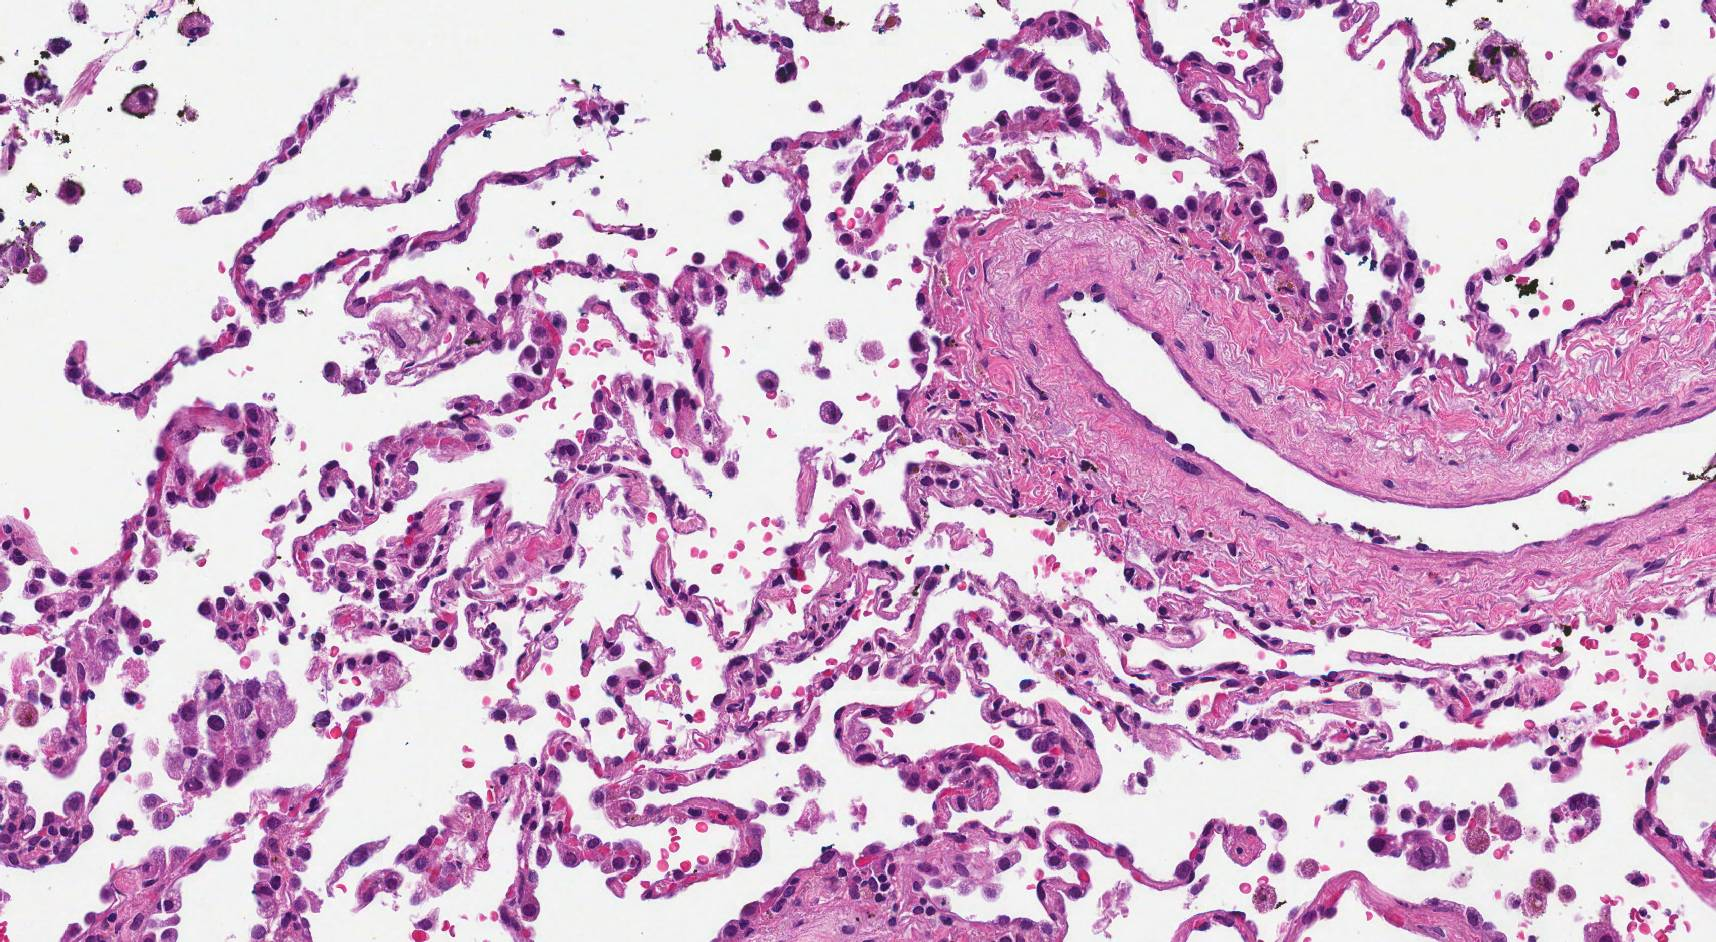stas: (164, 669, 299, 792)
